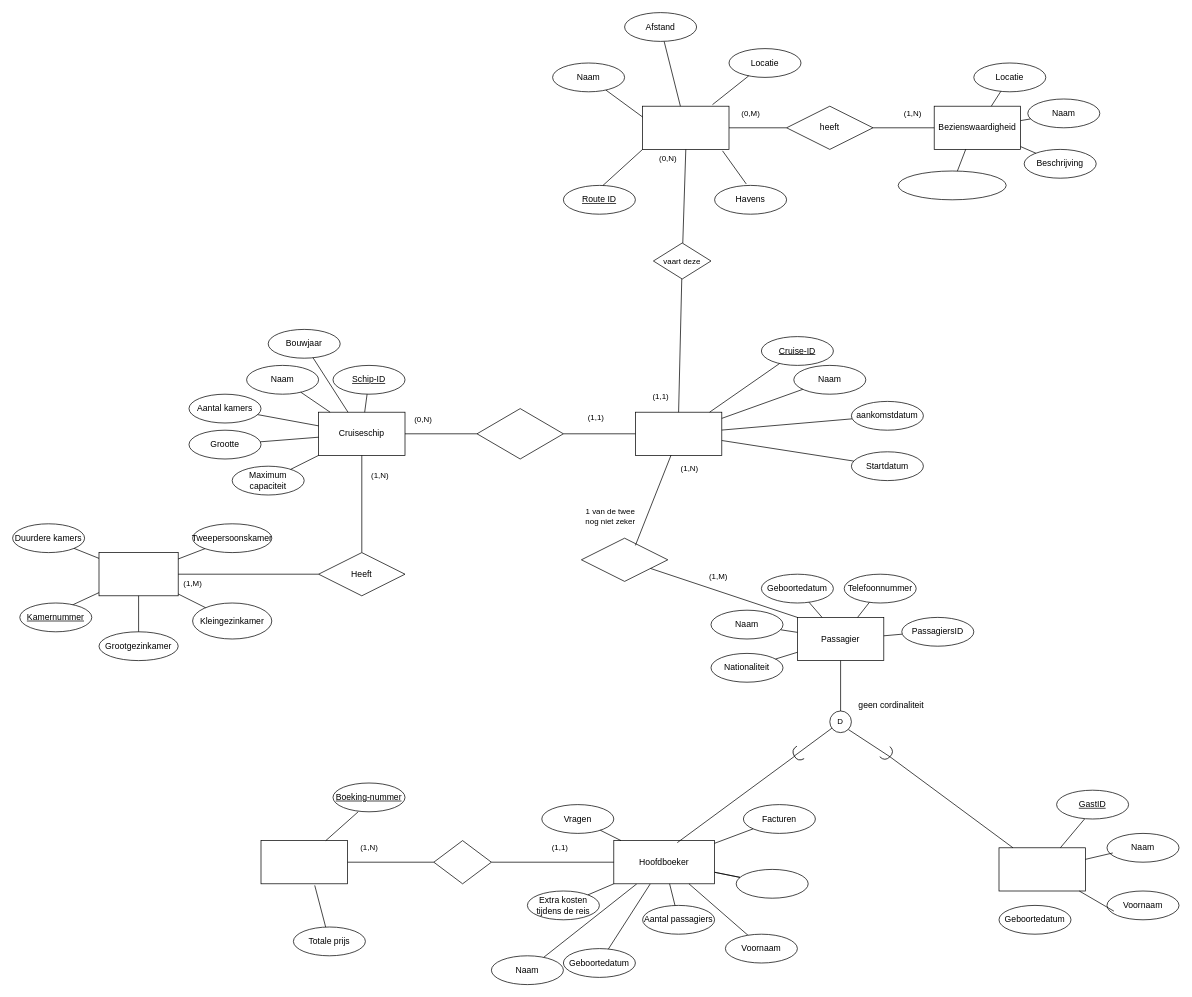
The diagram is 1192 pixels wide and 997 high, and some of its shapes have lost their labels. Each missing label, with the box of its shape:
Behoort tot: (581, 537, 668, 581)
BezienswaardigheidID: (897, 170, 1006, 200)
Boeking: (260, 840, 347, 884)
Boekt: (433, 840, 491, 884)
Cruisereis: (635, 411, 722, 455)
Gast: (998, 847, 1085, 891)
Kamertypes: (98, 552, 178, 596)
Prijs: (735, 869, 808, 898)
Vaarroute: (642, 105, 729, 149)
Vaart: (476, 408, 563, 459)
